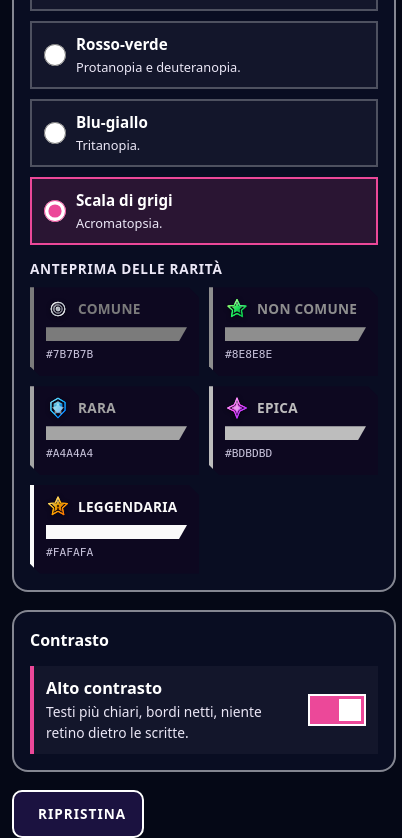
Test: AccessibilityPage › "Ripristina" spegne tutto e lo dice
(page scrolled)
Click the button "Ripristina" at (78, 814), box 12,790 -> 144,837
(page scrolled)
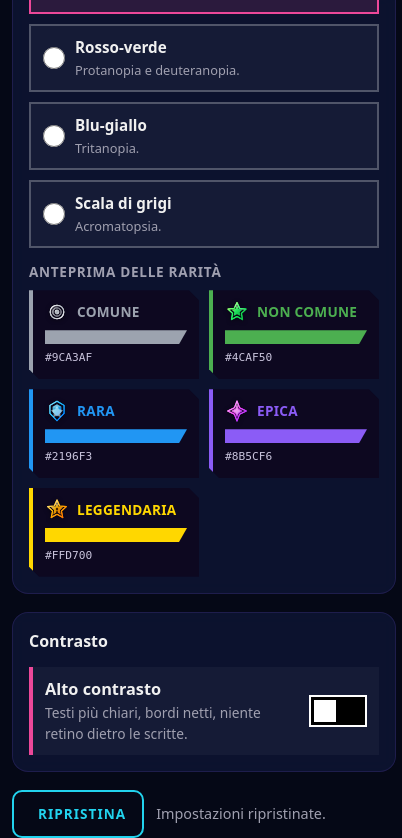
Now the message reads "Impostazioni ripristinate.", box 156,804 -> 326,823
